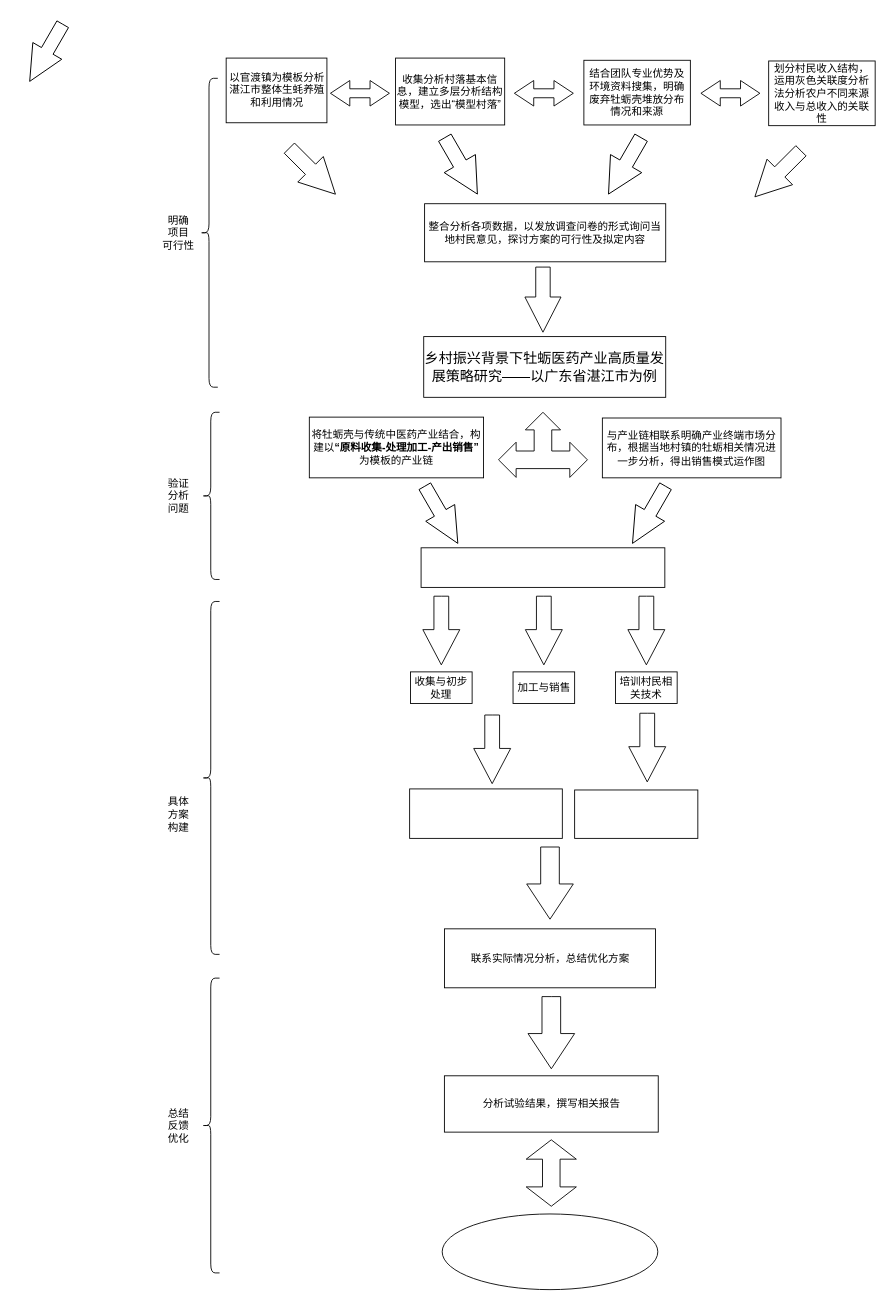
Image size: 891x1305. Some labels were removed from this diagram. Each missing label, with the centre of its shape:
"制定具体的实施方案" belongs at (x=542, y=567).
"收集各方反馈意见，完善优化项目方案" belongs at (x=549, y=1251).
"生牡蛎和煅牡蛎炮制法" belongs at (x=636, y=813).
"由多种渠道获取牡蛎壳来源，经初步筛选后，村民自行制作或送往药厂加工，然后产出销售" belongs at (x=485, y=813).
